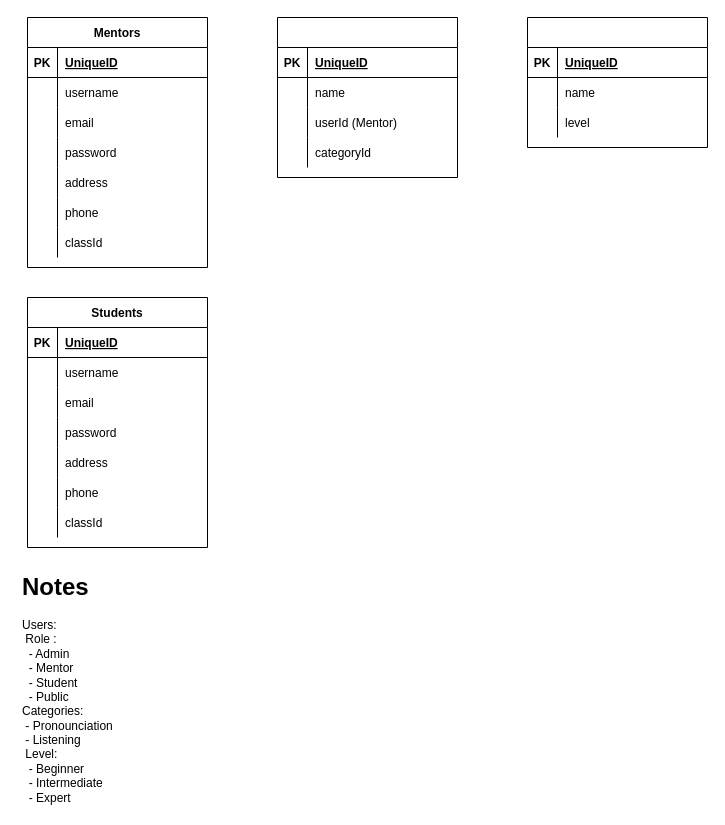
The diagram is 725 pixels wide and 825 high, and some of its shapes have lost their labels. Each missing label, with the box of its shape:
Categories: (526, 16, 708, 148)
Classes: (276, 16, 458, 178)
